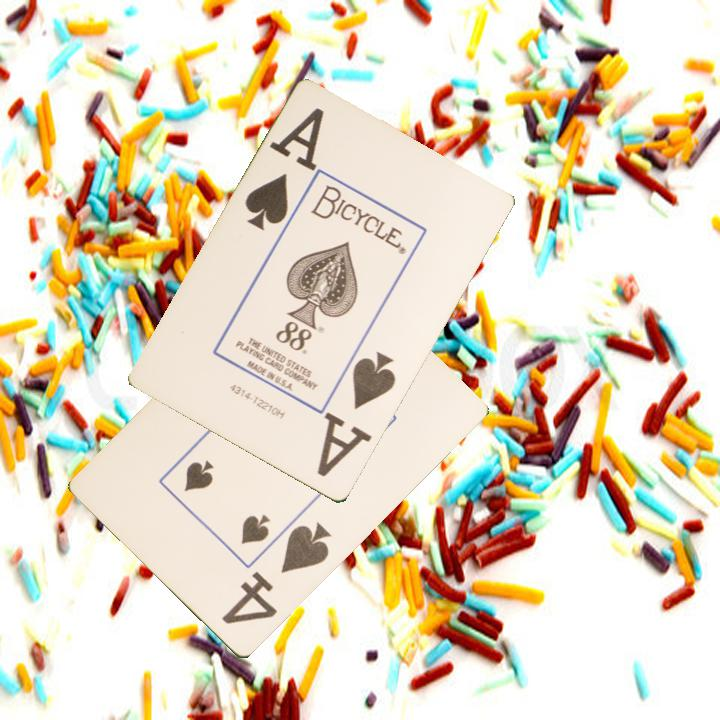4s: (218, 519, 334, 628)
As: (241, 104, 328, 234), (322, 348, 399, 468)
